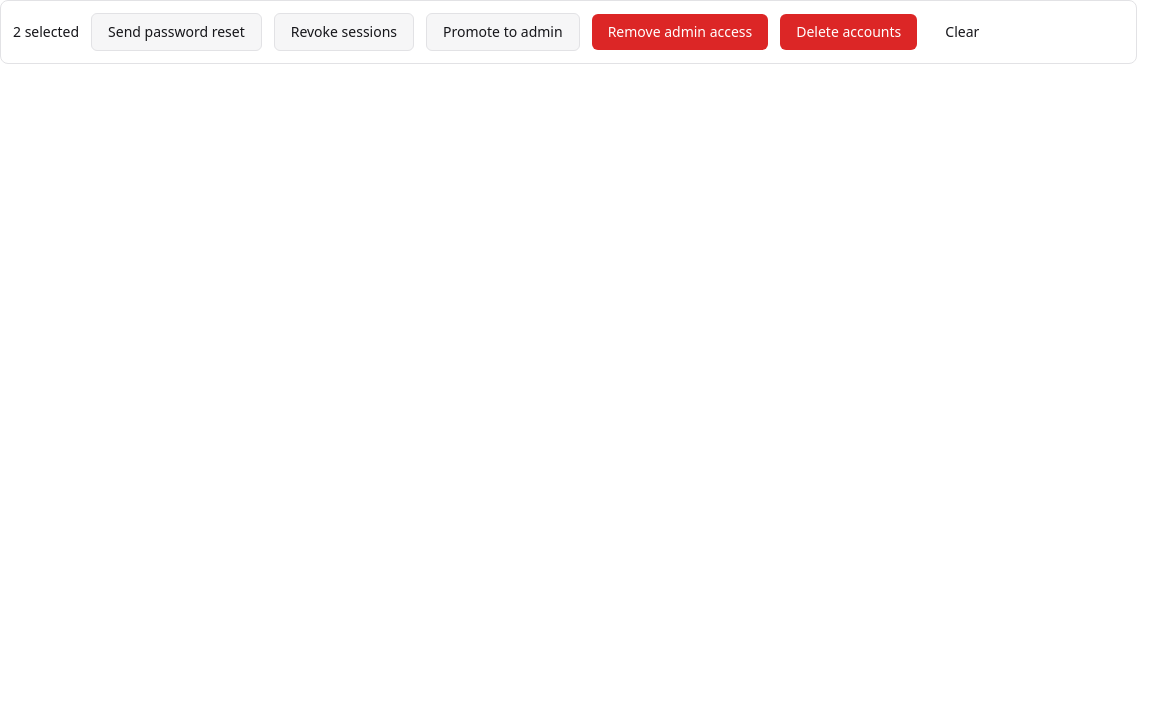
Test: UserBulkActions › reports the owner as refused on a bulk delete, rather than pre-filtering them out
Expected: the text "2 selected" is shown, [13, 22, 79, 42]
Click the button "Delete accounts". click: {"x": 849, "y": 32}
box: [780, 14, 917, 50]
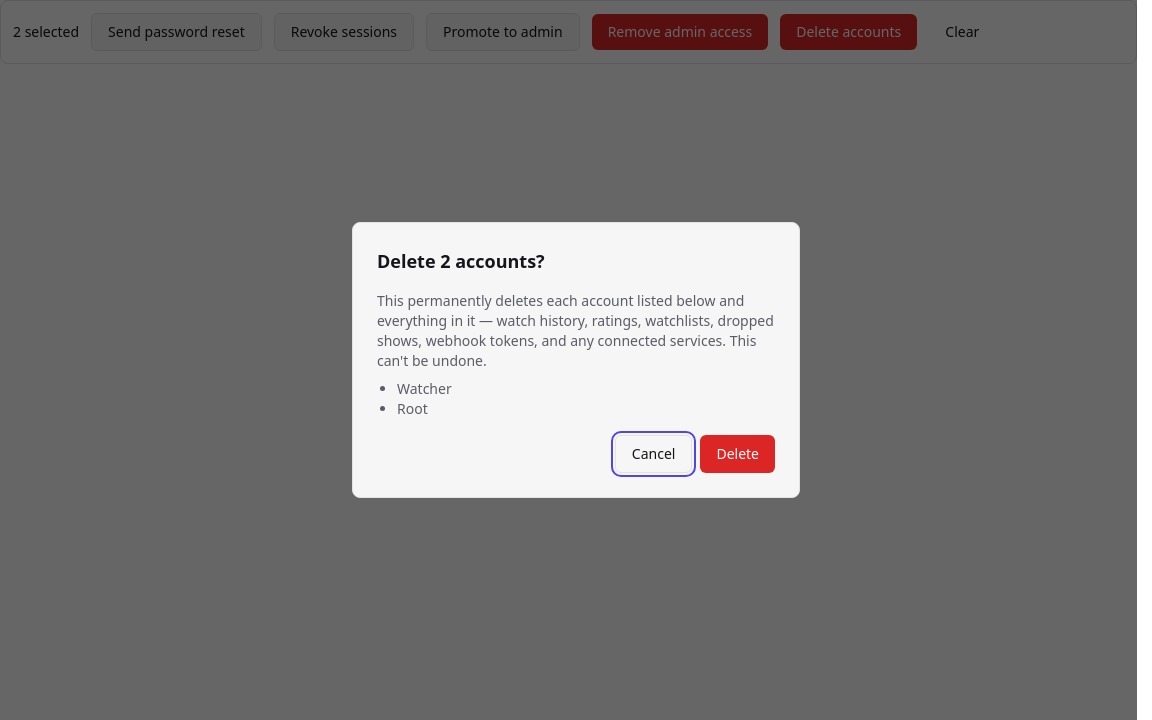
Click the button "Delete". click: {"x": 738, "y": 454}
box: [700, 435, 775, 473]
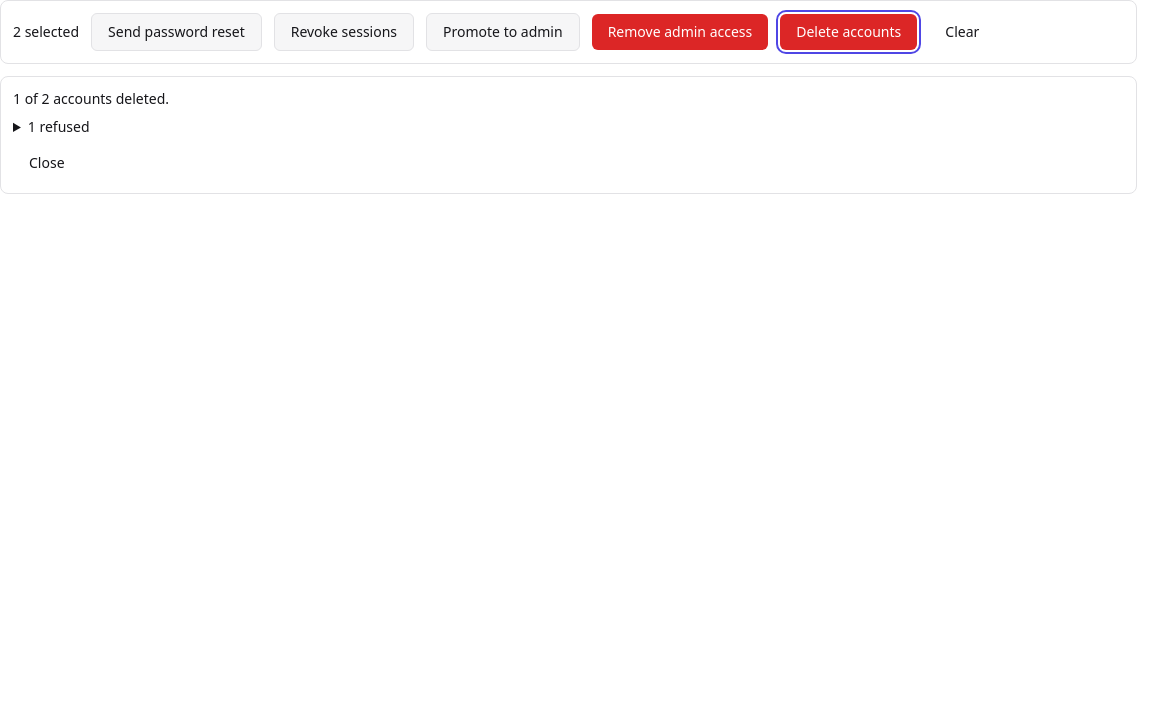
Click the heading "1 refused". click: {"x": 59, "y": 126}
box: [28, 117, 90, 136]
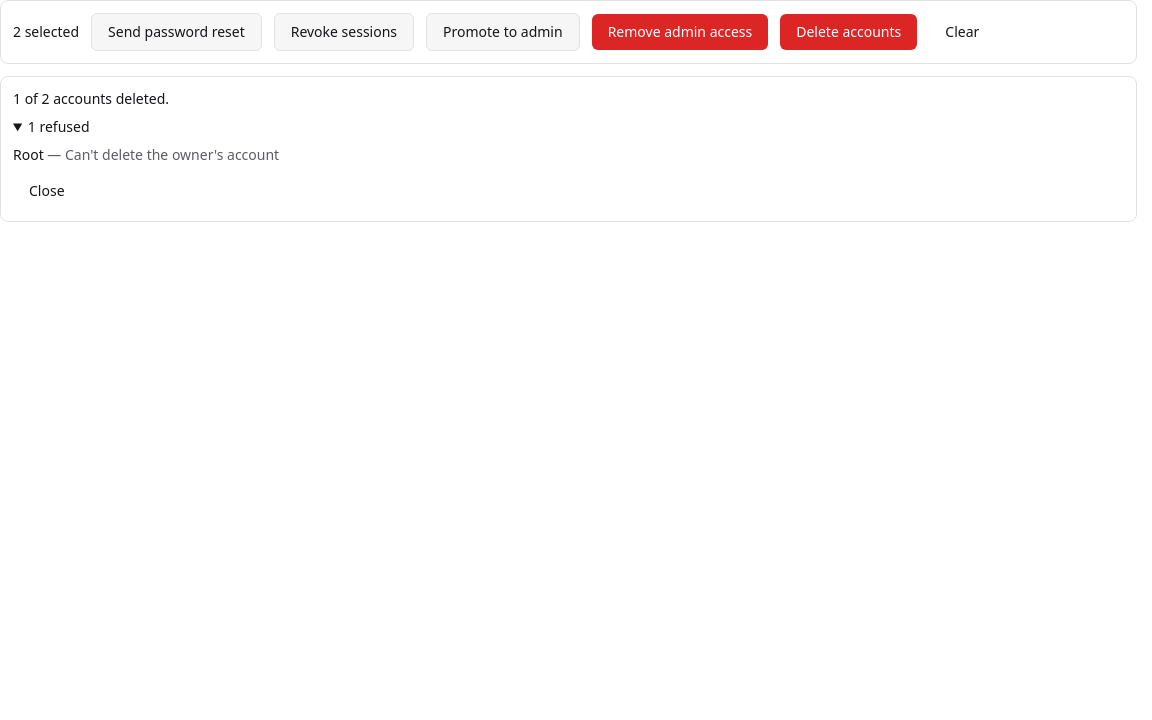
Result: the text "Can't delete the owner's account" is shown at [65, 145, 279, 164]
